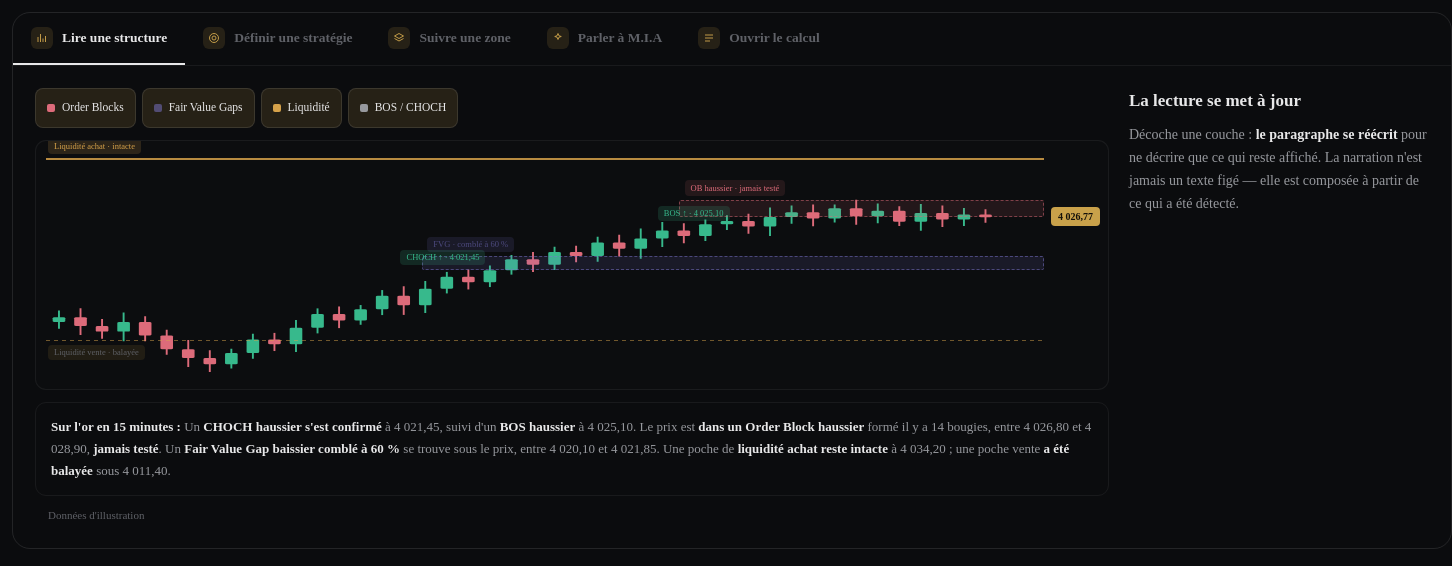
Test: LP-1 home — the non-M.I.A demos run offline › the régime demo reveals the raw calculation on demand
Click the tab "Ouvrir le calcul" at (759, 39), box top-left (680, 13), bottom-right (838, 65)
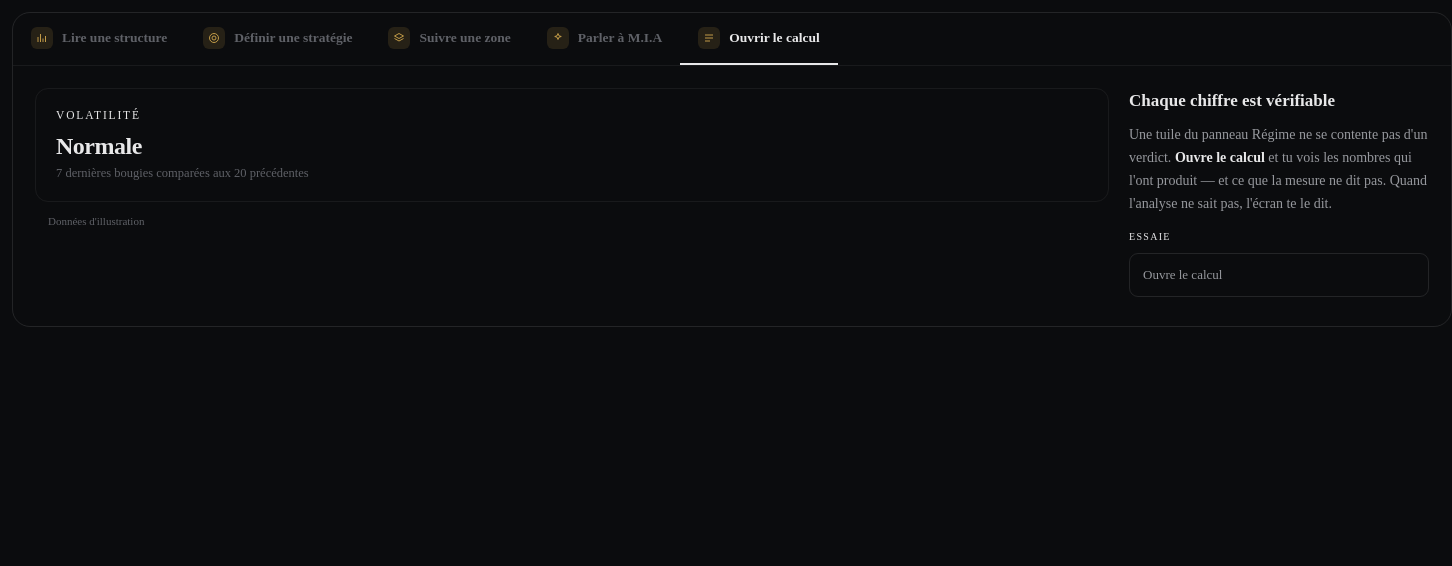
Expected: the text "Parcours moyen récent" is not shown
Click the button "Ouvre le calcul" at (1183, 275), box top-left (1129, 253), bottom-right (1429, 297)
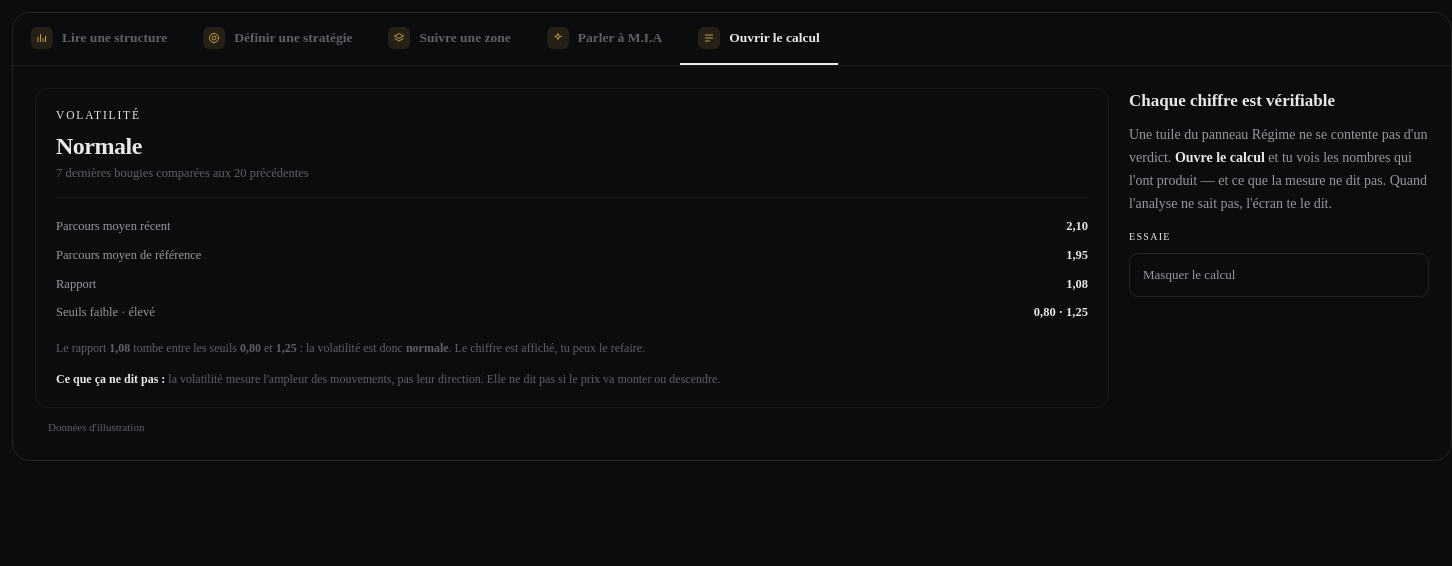
Expected: the text "Parcours moyen récent" is shown, top-left (56, 217), bottom-right (170, 236)
Expected: the text "Ce que ça ne dit pas :" is shown, top-left (56, 372), bottom-right (165, 386)
